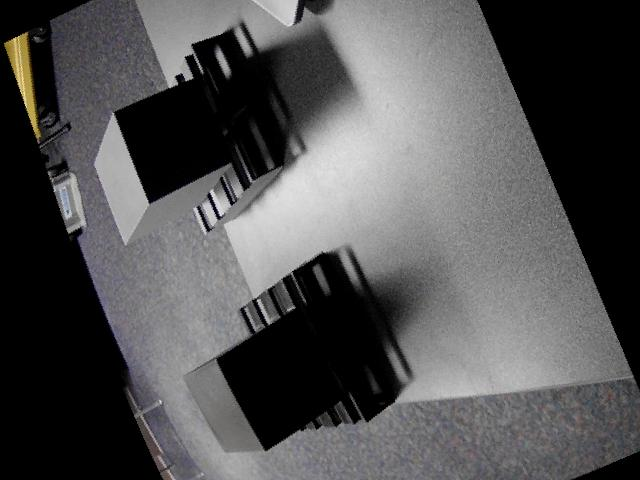black pallet: (178, 249, 410, 460)
grey pallet: (88, 27, 297, 250)
